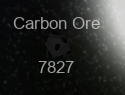Carbon: (12, 16, 101, 75)
